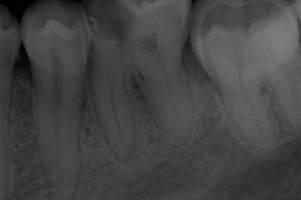Endo-Periodontal Lesion: (131, 75, 144, 103)
